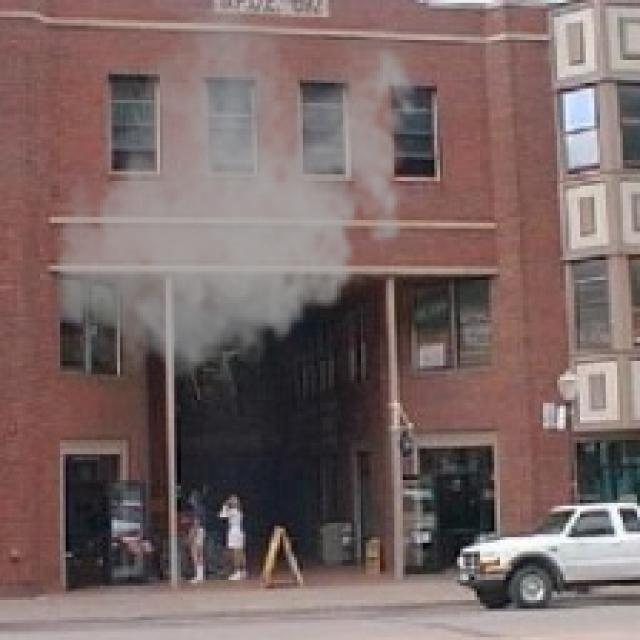smoke: (46, 3, 428, 391)
